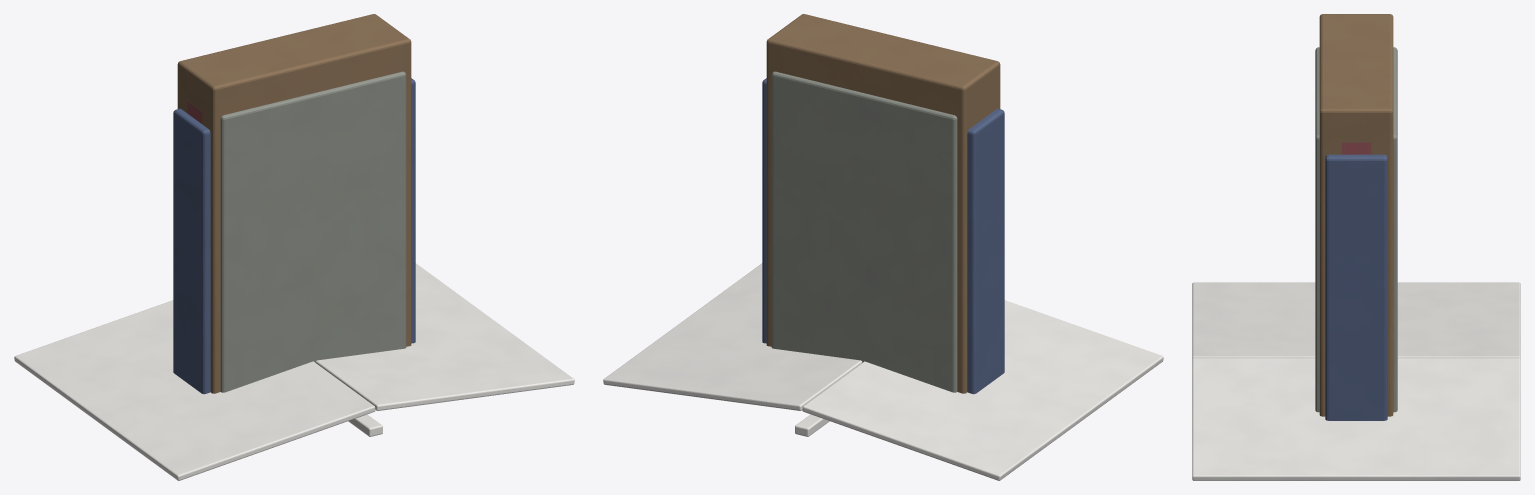
File: PRP_Books_Set.fbx
3 views of the same model, side by side, from view 1: azimuth 30°, elevation 25°; view 2: azimuth 150°, elevation 25°; view 3: azimuth 270°, elevation 25° (orthographic).
Visible parts, largest first — view 1: Book_E, Book_Open, Book_D, Book_C; view 2: Book_E, Book_Open, Book_D, Book_C; view 3: Book_Open, Book_C, Book_D, Book_E, Book_A.
Part boxes in pixels (x1,y1,x2,y2): Book_E: [220, 71, 406, 392]; Book_Open: [14, 263, 574, 480]; Book_D: [177, 14, 411, 393]; Book_C: [173, 78, 415, 394]; Book_E: [771, 71, 957, 392]; Book_Open: [603, 263, 1163, 480]; Book_D: [766, 14, 1000, 393]; Book_C: [762, 78, 1004, 394]; Book_Open: [1192, 282, 1520, 480]; Book_C: [1325, 154, 1387, 420]; Book_D: [1319, 14, 1393, 416]; Book_E: [1315, 47, 1397, 412]; Book_A: [1341, 142, 1371, 154].
Size of the model in its own units: 27.94 by 22 by 20.
